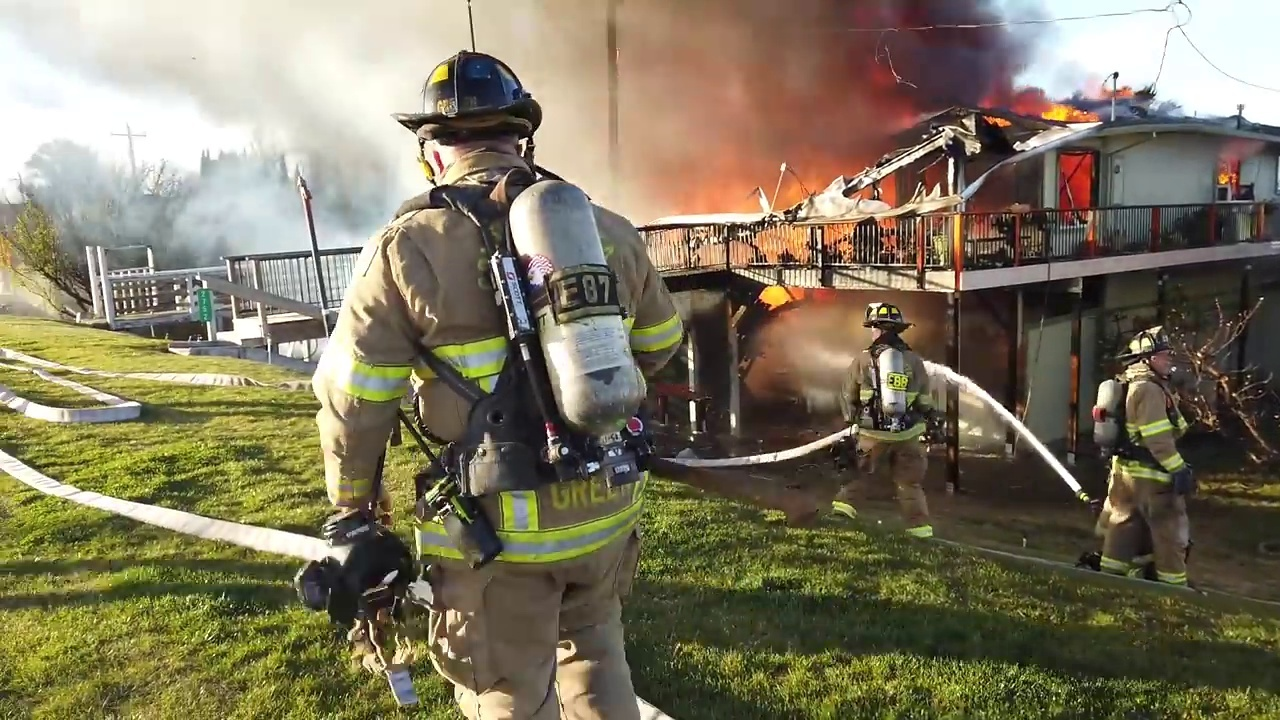fire: (982, 90, 1096, 125), (1056, 154, 1091, 209), (755, 278, 796, 307), (1214, 159, 1240, 190), (1097, 77, 1133, 99)
smoke: (1, 1, 393, 292), (561, 1, 1061, 140), (736, 310, 837, 430), (963, 299, 1017, 378), (908, 295, 959, 361)
